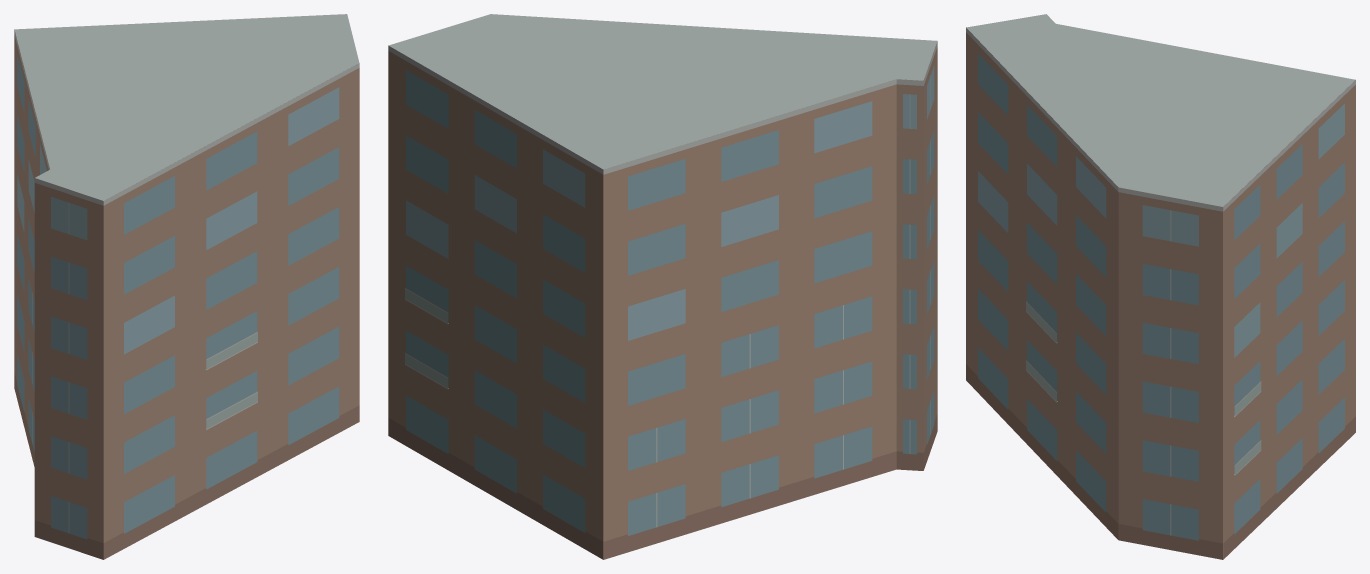
Rendered from survey-upis-32900720.glb.
3 views of the same model, side by side, from view 1: azimuth 30°, elevation 25°; view 2: azimuth 150°, elevation 25°; view 3: azimuth 270°, elevation 25° (orthographic). The views are drawn at different scales.
Visible parts, largest first — view 1: survey-upis-32900720.tmp; view 2: survey-upis-32900720.tmp; view 3: survey-upis-32900720.tmp.
Boxes of the visible parts, left/top/right/bottom form: survey-upis-32900720.tmp: left=14, top=14, right=359, bottom=559; survey-upis-32900720.tmp: left=388, top=14, right=937, bottom=559; survey-upis-32900720.tmp: left=966, top=14, right=1355, bottom=559.
Size of the model in its own units: 21.48 by 18.3 by 18.33.
